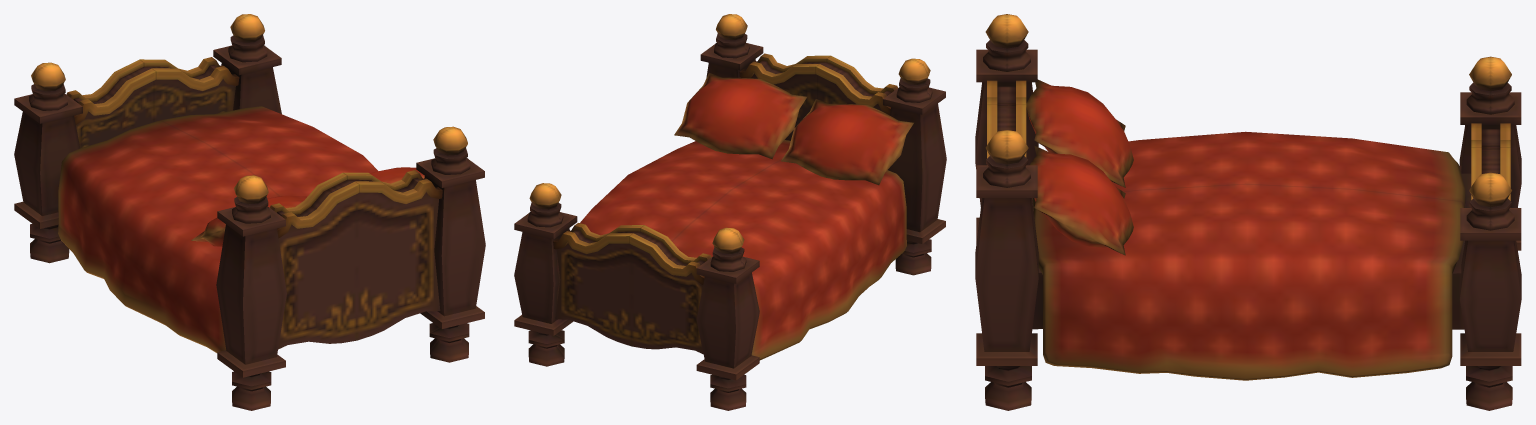
File: Bed01.gltf
3 views of the same model, side by side, from view 1: azimuth 30°, elevation 25°; view 2: azimuth 150°, elevation 25°; view 3: azimuth 270°, elevation 25° (orthographic). The views are drawn at different scales.
Visible parts, largest first — view 1: Bed01; view 2: Bed01; view 3: Bed01.
Boxes of the visible parts, bbox=[...] form: Bed01: bbox=[14, 14, 485, 410]; Bed01: bbox=[514, 14, 946, 410]; Bed01: bbox=[975, 14, 1521, 410].
Size of the model in its own units: 65.89 by 55.66 by 102.
Materials: 1 (1 with a texture image).
